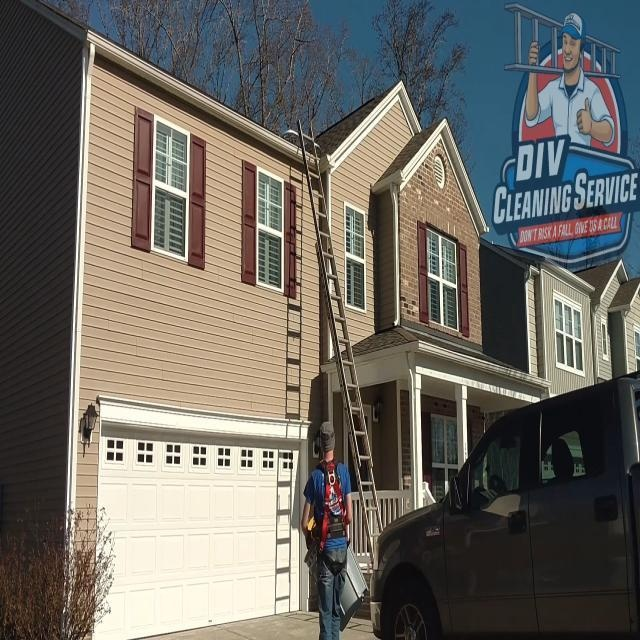Arnes_seguridad: (313, 455, 350, 577)
